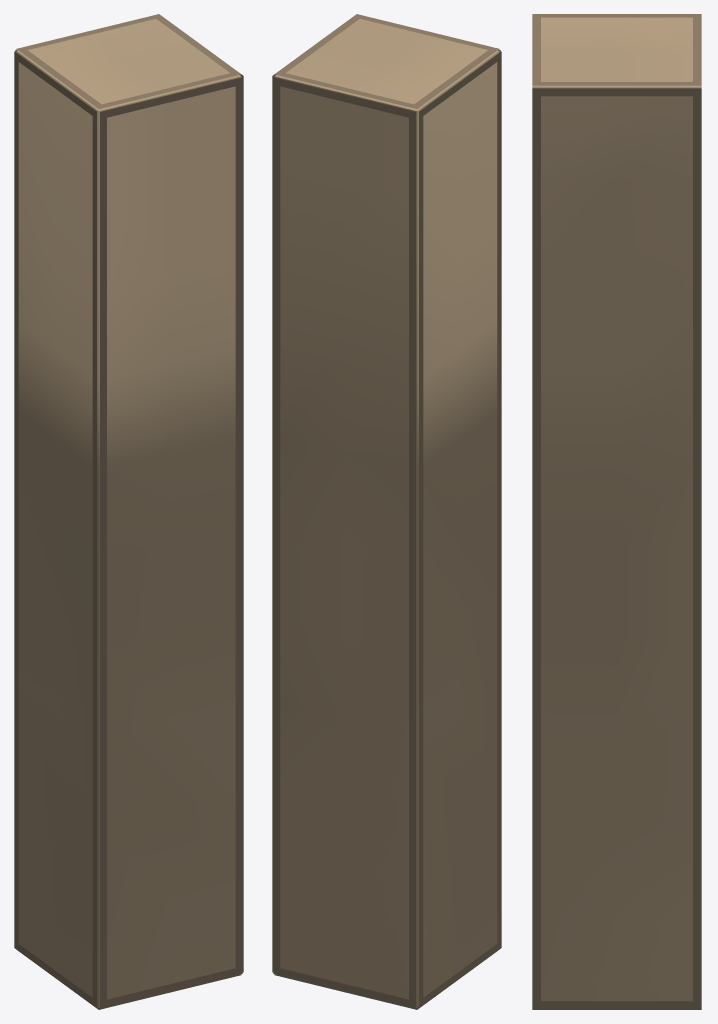
The model's file is key.glb.
3 renders of one model, left to right at view 1: azimuth 30°, elevation 25°; view 2: azimuth 150°, elevation 25°; view 3: azimuth 270°, elevation 25°, orthographic. The views are drawn at different scales.
Parts seen in each view (by area): view 1: key; view 2: key; view 3: key.
Boxes of the visible parts, x1,y1,x2,y2 form: key: (14, 14, 243, 1009); key: (272, 14, 501, 1009); key: (532, 14, 701, 1009).
Size of the model in its own units: 0.0308 by 0.1808 by 0.0308.
